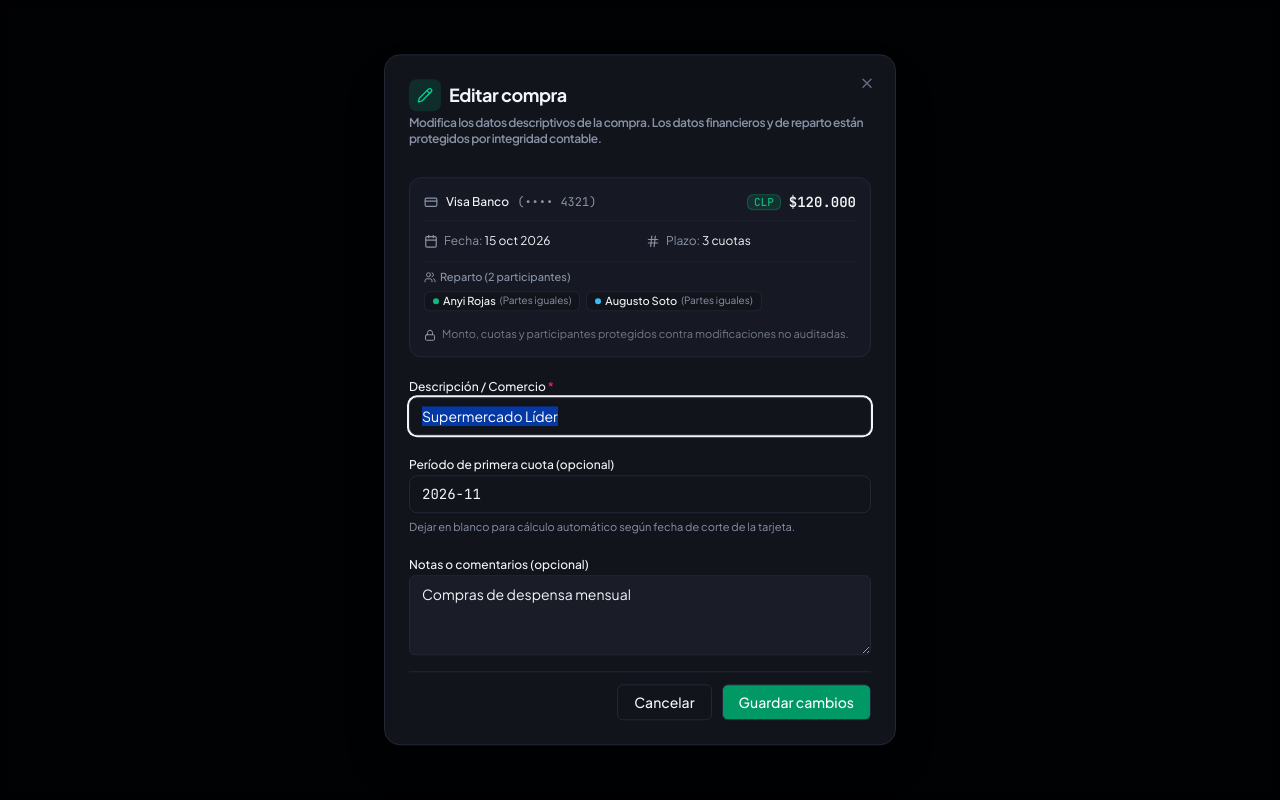
Test case: ExpenseEditDialog Component (Spec 005 T6) › valida formato de first_billing_override (YYYY-MM) si se ingresa un valor incorrecto
Replace the text in the field labelled "Período de primera cuota (opcional)" with "2026-13" at (640, 494), box [409,475,871,513]
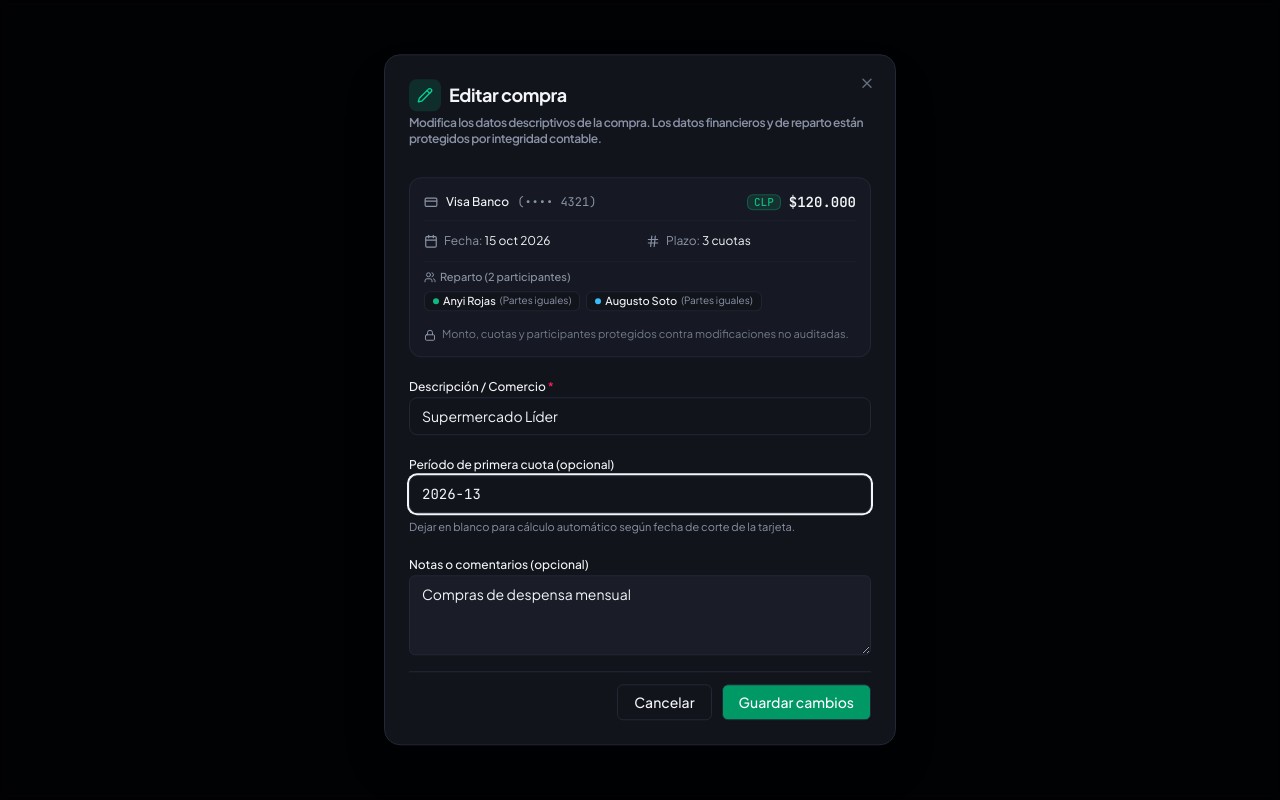
Click the button "Guardar cambios" at (796, 703), box [722,685,871,721]
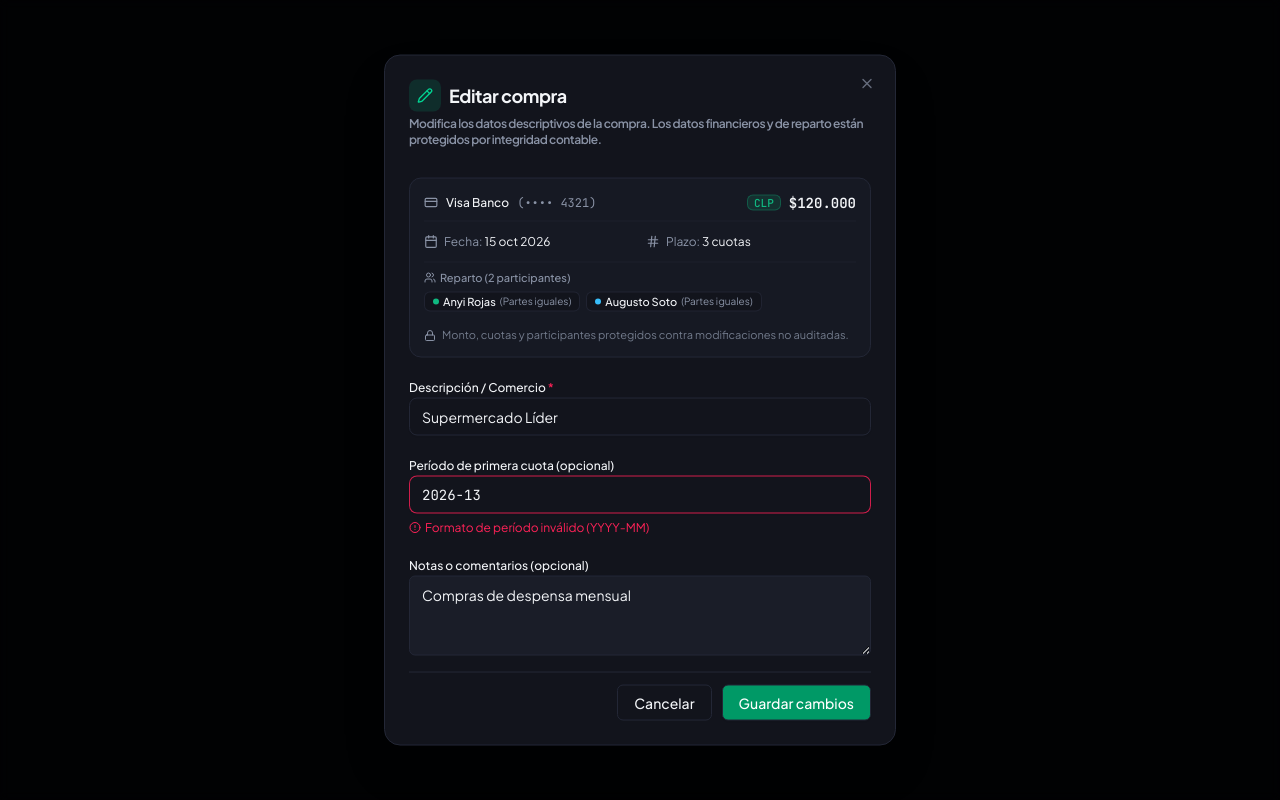
Now the text "Formato de período inválido (YYYY-MM)" is shown, box [425,520,649,536]
